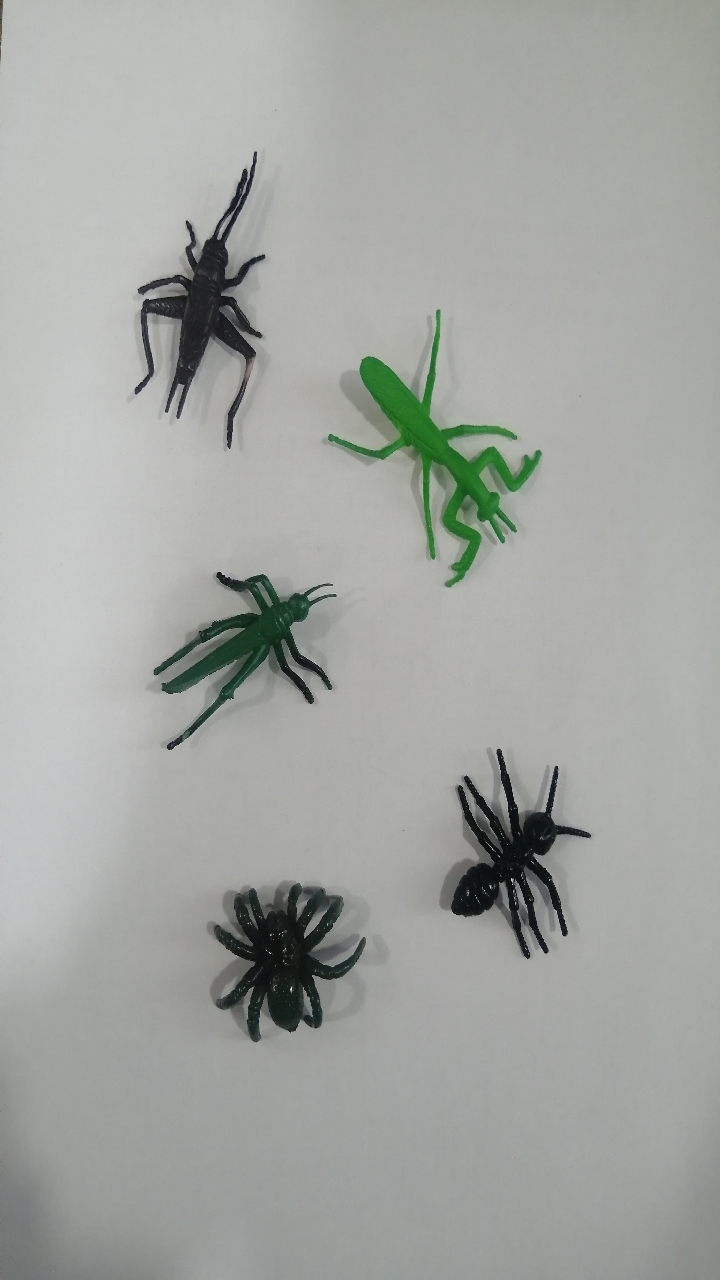intruso: (86, 111, 314, 477), (320, 283, 551, 605), (391, 714, 621, 995), (120, 537, 357, 763), (183, 851, 400, 1082)
